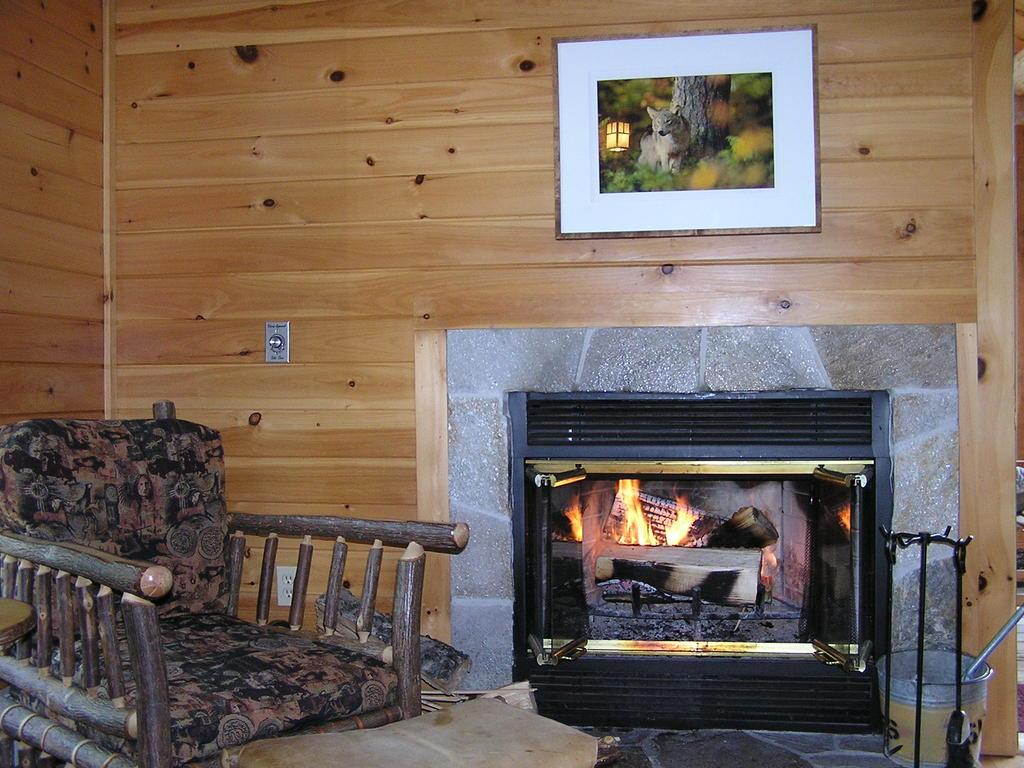Fire: (555, 476, 715, 553)
